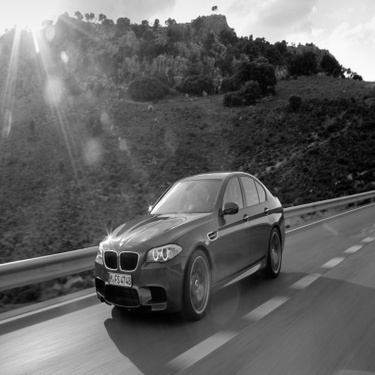car: (88, 163, 294, 327)
